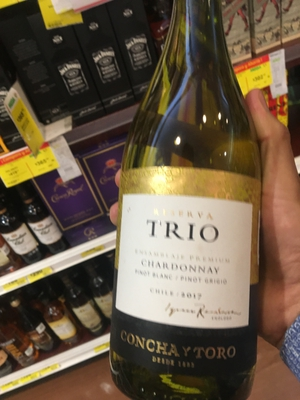trio chardonnay: (96, 20, 274, 391)
